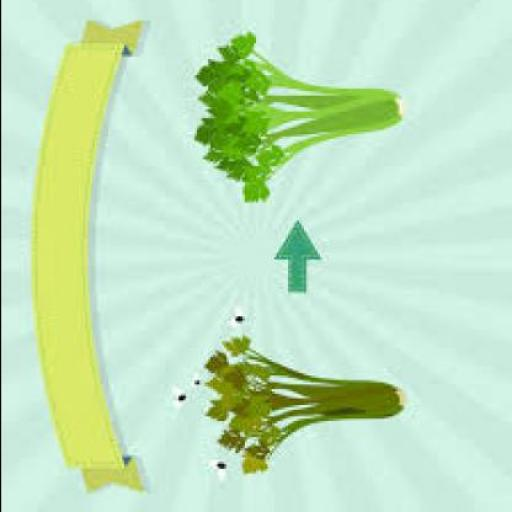biodegradable: (186, 34, 396, 204), (196, 339, 400, 478), (189, 32, 280, 204), (197, 339, 269, 476)
